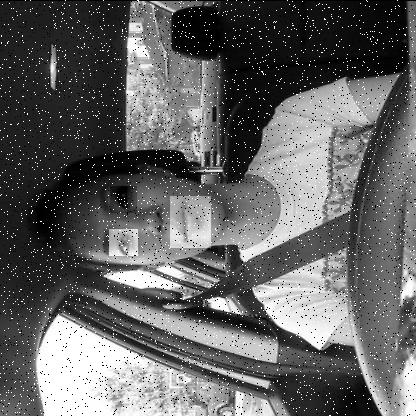seatbelt: (36, 158, 354, 291)
